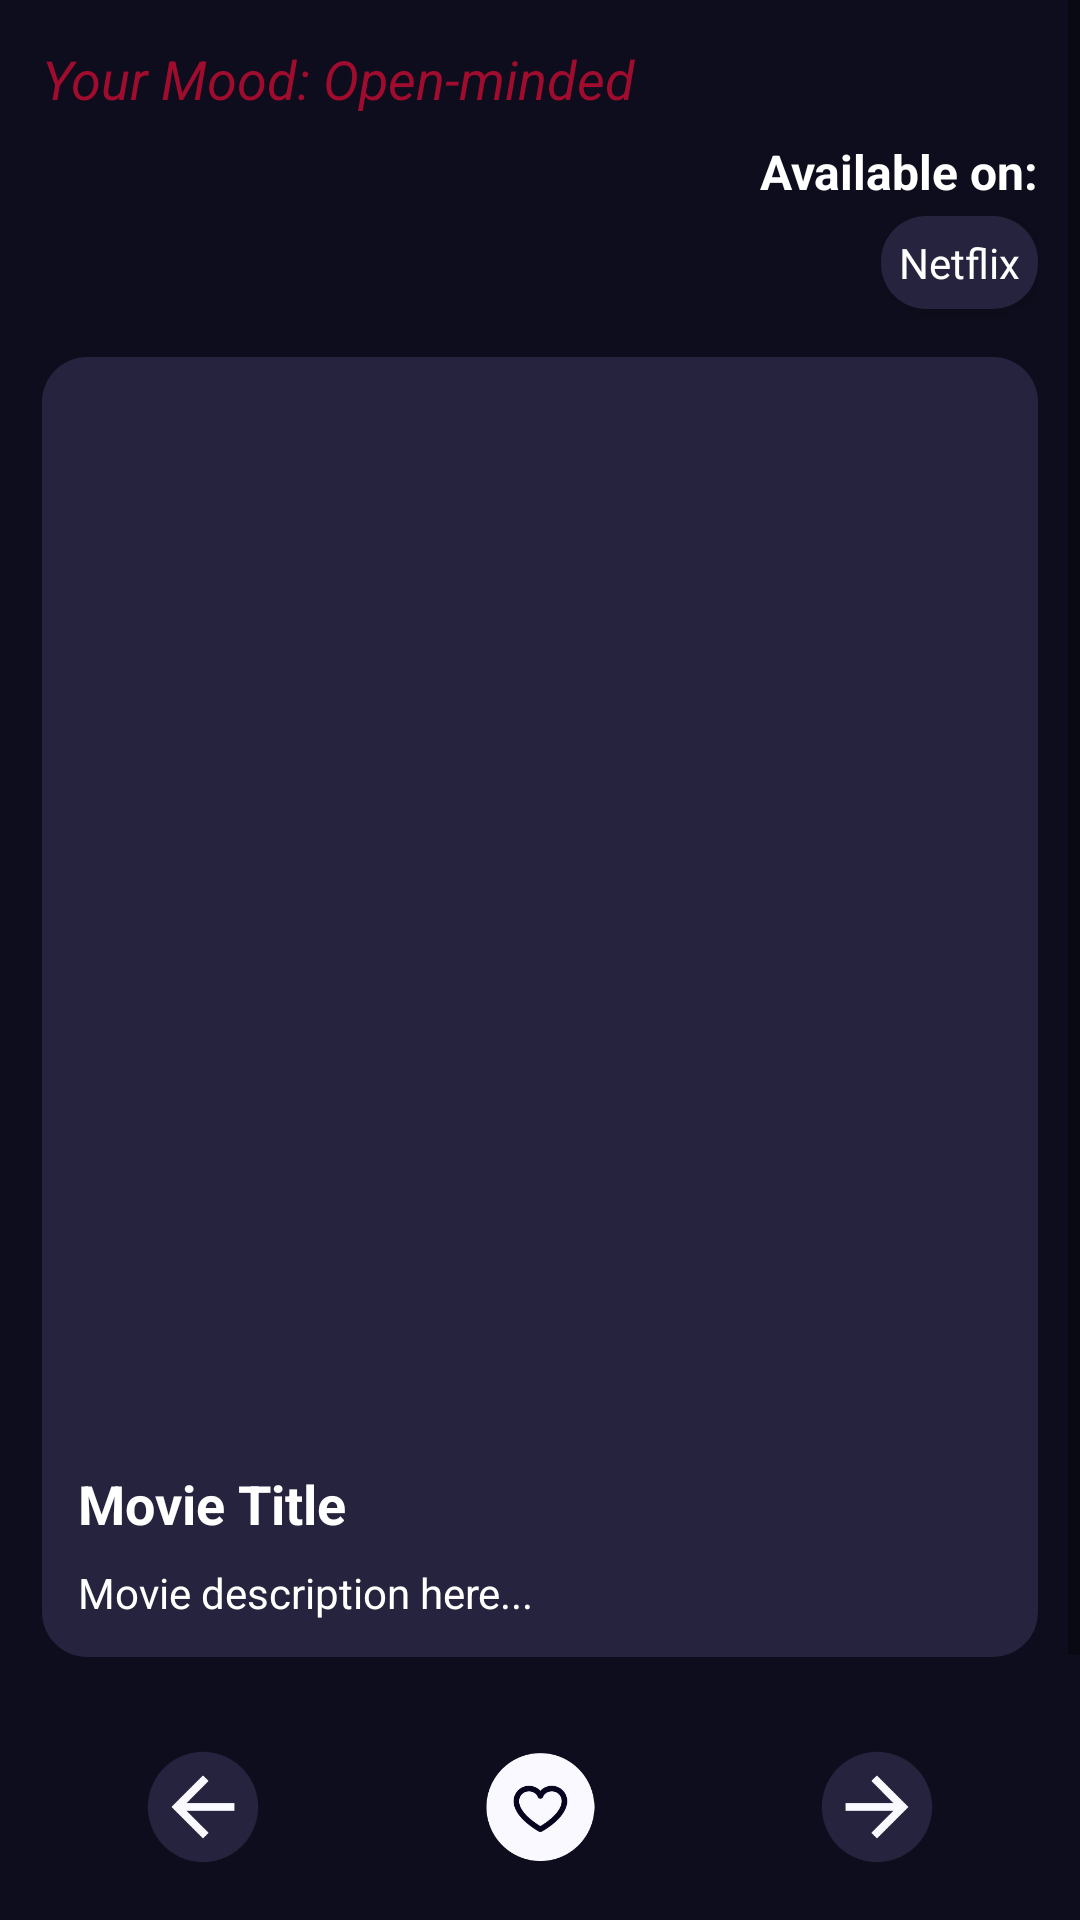

Named icons in this screenshot (1080 x 1920) and their centers, point (x, y):
Like: point (540, 1807)
Next: point (877, 1807)
Previous: point (203, 1807)
